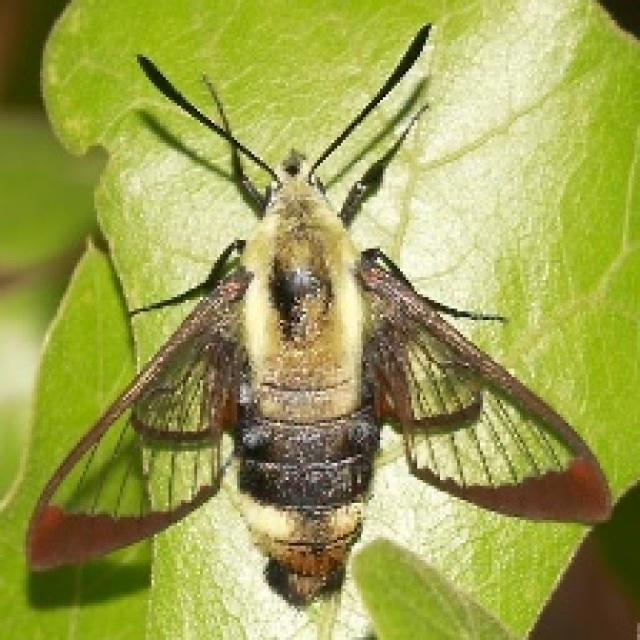butterfly: (23, 20, 614, 614)
